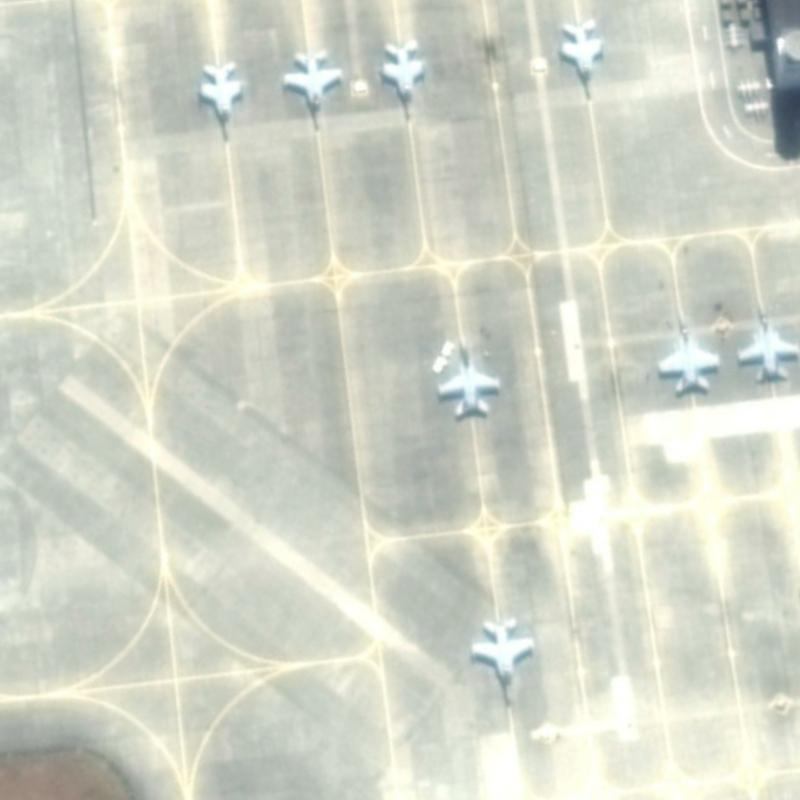A16: (459, 608, 545, 715), (641, 299, 729, 399), (425, 325, 507, 426), (725, 286, 799, 389), (275, 39, 348, 136), (548, 11, 619, 104), (371, 31, 435, 127), (194, 53, 251, 145)
